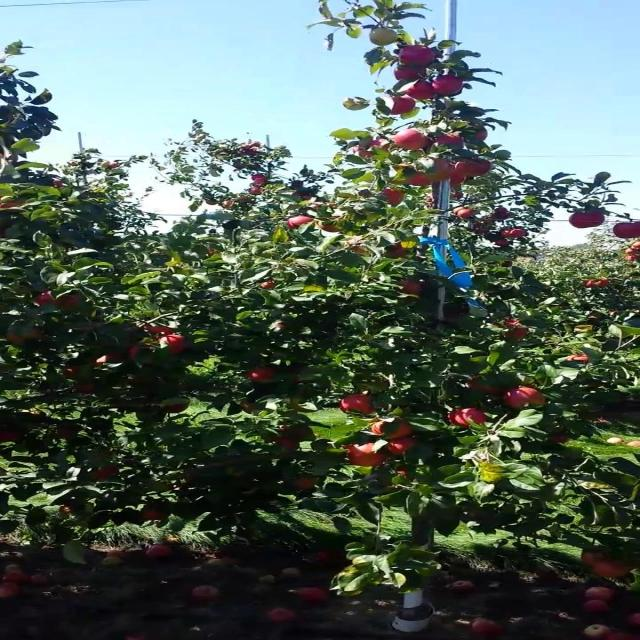apple: (504, 388, 548, 410), (348, 444, 388, 468), (35, 292, 84, 310), (376, 420, 414, 440), (454, 408, 491, 428), (596, 560, 633, 580), (340, 396, 377, 415), (397, 48, 436, 66), (468, 376, 503, 395), (6, 328, 44, 345), (433, 76, 464, 96), (568, 212, 604, 229), (390, 96, 420, 116), (397, 132, 428, 151), (497, 320, 526, 340), (276, 424, 313, 439), (404, 84, 437, 100), (461, 160, 491, 177), (6, 332, 43, 345), (390, 440, 420, 456), (163, 336, 188, 355), (248, 368, 277, 384), (611, 224, 639, 240), (369, 32, 398, 47), (319, 216, 345, 232), (504, 324, 528, 340), (291, 424, 315, 440), (397, 280, 421, 295), (148, 324, 178, 336), (383, 188, 405, 204), (92, 468, 121, 480), (582, 552, 608, 565), (412, 172, 432, 188), (447, 308, 468, 323), (397, 68, 421, 81), (433, 136, 464, 146), (298, 476, 320, 490), (433, 164, 452, 180), (433, 168, 453, 183), (163, 404, 190, 414), (433, 160, 452, 174), (291, 216, 313, 228), (497, 320, 523, 330), (127, 344, 144, 359), (454, 208, 476, 219), (141, 512, 167, 521), (276, 440, 299, 450), (127, 344, 142, 359), (56, 428, 78, 438), (355, 148, 375, 159), (390, 244, 405, 258), (79, 384, 98, 395), (63, 368, 80, 380), (511, 328, 528, 340), (99, 356, 121, 365), (369, 140, 391, 149), (397, 468, 412, 481), (454, 172, 468, 185), (319, 224, 341, 232), (568, 356, 590, 364), (547, 436, 569, 444), (6, 432, 21, 443), (497, 208, 512, 219), (241, 404, 256, 413), (397, 164, 412, 173), (476, 132, 491, 140), (63, 508, 75, 516), (355, 248, 368, 255), (262, 284, 276, 289)
